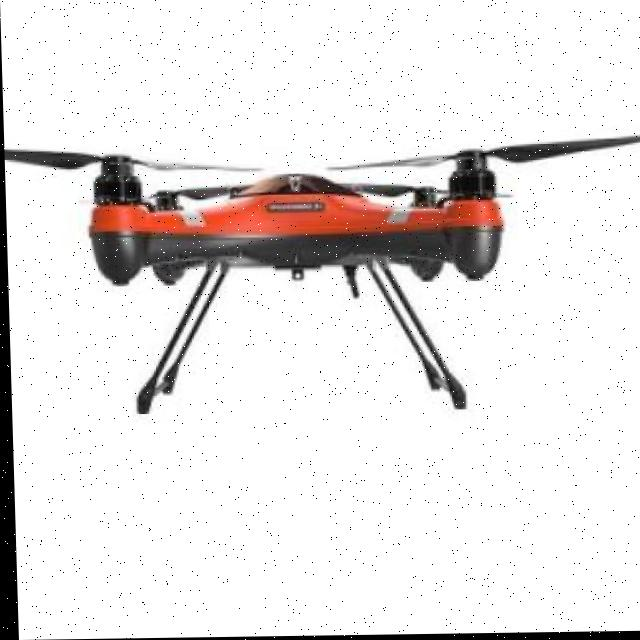drones: (3, 100, 640, 452)
